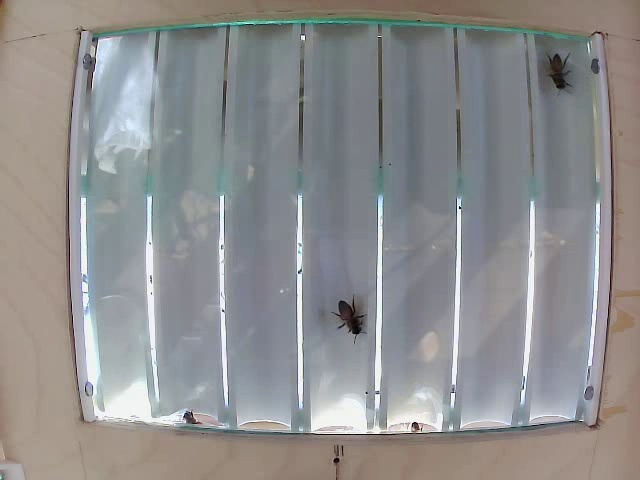bee: (325, 295, 370, 344), (543, 52, 578, 99)
